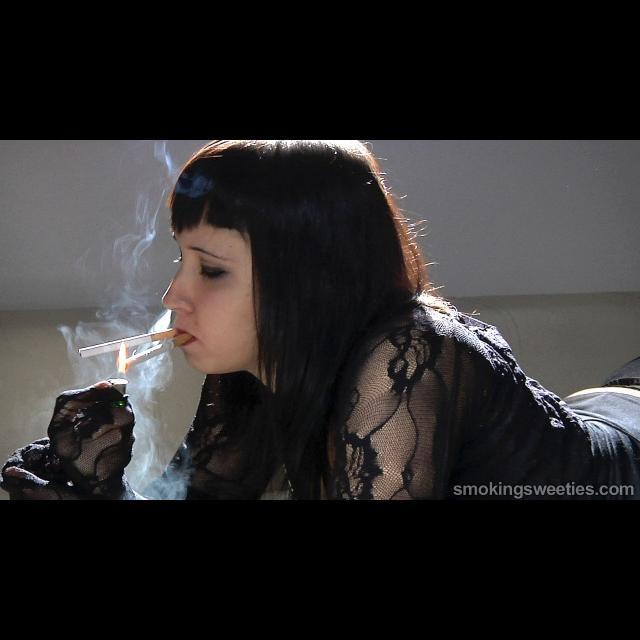rokok: (75, 327, 178, 357)
